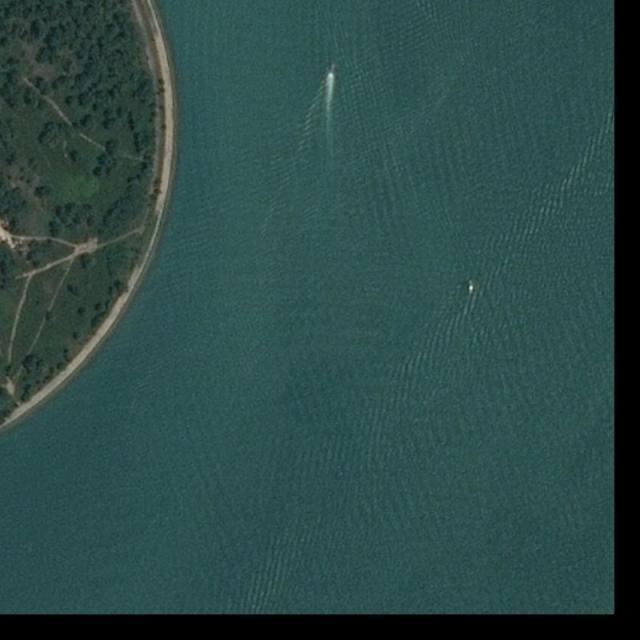ship: (328, 62, 337, 74), (468, 280, 475, 295)
